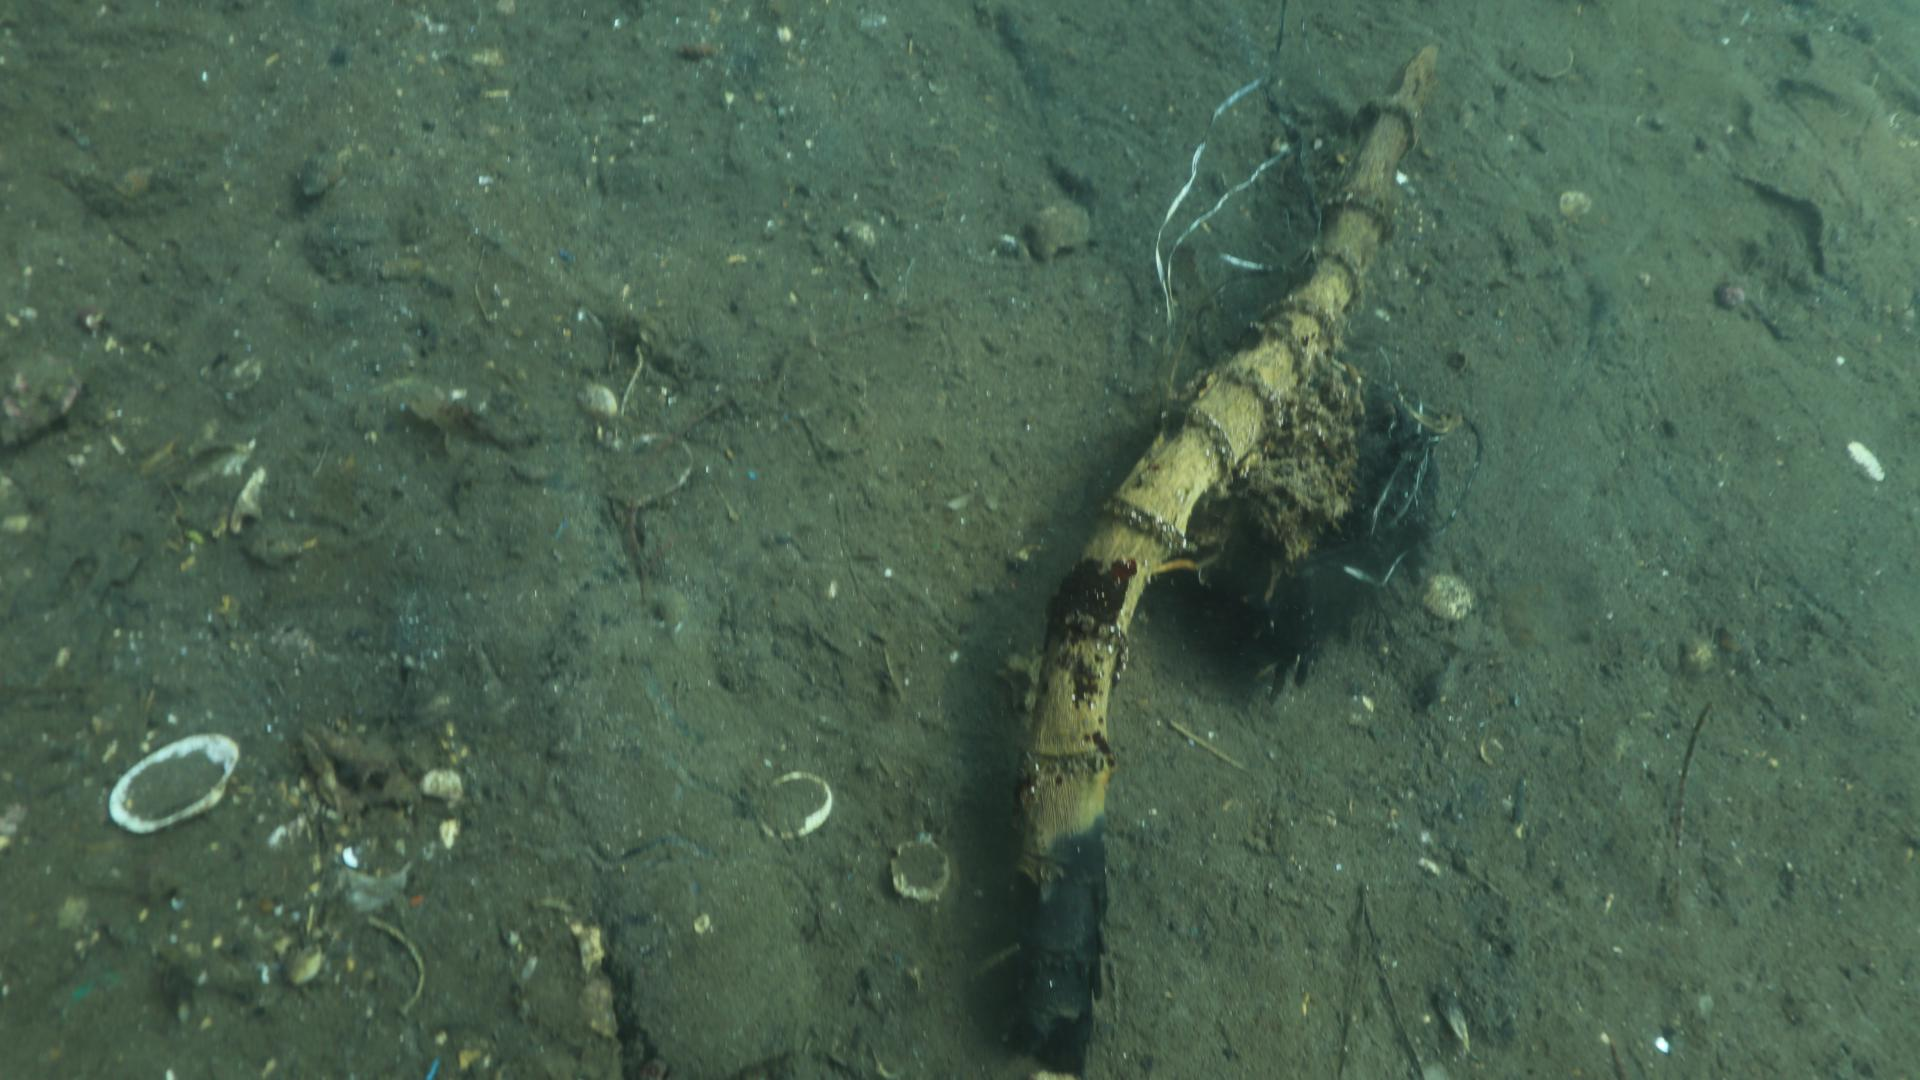wood: (992, 40, 1443, 1080)
